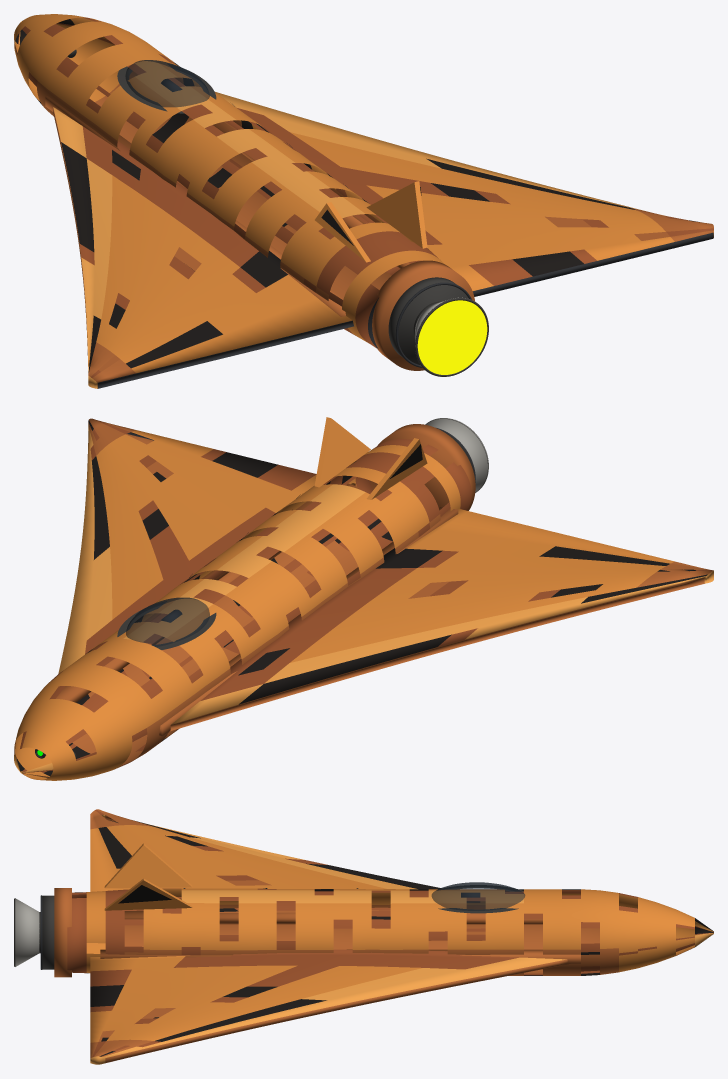
Rendered from Ship_TigerWing_4.glb.
3 renders of one model, top to bottom at view 1: azimuth 30°, elevation 25°; view 2: azimuth 150°, elevation 25°; view 3: azimuth 270°, elevation 25°, orthographic. The views are drawn at different scales.
Parts seen in each view (by area): view 1: Fuselage_OrganicEllipsoidTaperedBody_BakedPaint, Wing_Left_LongDeltaAerofoil_BakedPaint, Wing_Right_LongDeltaAerofoil_BakedPaint, EngineEmitter, AftCollar_IntegratedSingleEngineBand, CanopyGlass_LowInsetDome, EngineBlock_AftDarkSingleEngineHousing, TailFin_Right_CantedStabilizer, WingRoot_Left_EmbeddedShoulder, CanopyFrame_DorsalOvalRim, TailFin_Left_CantedStabilizer, EngineLip_Center_DarkWideRim; view 2: Fuselage_OrganicEllipsoidTaperedBody_BakedPaint, Wing_Left_LongDeltaAerofoil_BakedPaint, Wing_Right_LongDeltaAerofoil_BakedPaint, CanopyGlass_LowInsetDome, AftCollar_IntegratedSingleEngineBand, TailFin_Right_CantedStabilizer, EngineBell_Center_BroadBurnishedNozzle, WingRoot_Left_EmbeddedShoulder, TailFin_Left_CantedStabilizer, CanopyFrame_DorsalOvalRim, WingRoot_Right_EmbeddedShoulder; view 3: Fuselage_OrganicEllipsoidTaperedBody_BakedPaint, Wing_Right_LongDeltaAerofoil_BakedPaint, Wing_Left_LongDeltaAerofoil_BakedPaint, CanopyGlass_LowInsetDome, TailFin_Left_CantedStabilizer, AftCollar_IntegratedSingleEngineBand, EngineBell_Center_BroadBurnishedNozzle, TailFin_Right_CantedStabilizer, WingRoot_Right_EmbeddedShoulder, WingRoot_Left_EmbeddedShoulder, EngineBlock_AftDarkSingleEngineHousing, CanopyFrame_DorsalOvalRim (+1 smaller).
Boxes of the visible parts, x1,y1,x2,y2 form: Fuselage_OrganicEllipsoidTaperedBody_BakedPaint: [14, 14, 443, 349]; Wing_Left_LongDeltaAerofoil_BakedPaint: [53, 107, 353, 388]; Wing_Right_LongDeltaAerofoil_BakedPaint: [215, 92, 713, 296]; EngineEmitter: [417, 300, 487, 374]; AftCollar_IntegratedSingleEngineBand: [372, 260, 474, 370]; CanopyGlass_LowInsetDome: [125, 60, 209, 107]; EngineBlock_AftDarkSingleEngineHousing: [388, 277, 468, 364]; TailFin_Right_CantedStabilizer: [366, 181, 427, 248]; WingRoot_Left_EmbeddedShoulder: [45, 96, 345, 316]; CanopyFrame_DorsalOvalRim: [117, 64, 216, 113]; TailFin_Left_CantedStabilizer: [315, 202, 370, 262]; EngineLip_Center_DarkWideRim: [415, 297, 488, 376]; Fuselage_OrganicEllipsoidTaperedBody_BakedPaint: [14, 439, 471, 780]; Wing_Left_LongDeltaAerofoil_BakedPaint: [169, 508, 713, 731]; Wing_Right_LongDeltaAerofoil_BakedPaint: [58, 418, 355, 673]; CanopyGlass_LowInsetDome: [126, 597, 209, 646]; AftCollar_IntegratedSingleEngineBand: [370, 424, 475, 510]; TailFin_Right_CantedStabilizer: [314, 417, 370, 487]; EngineBell_Center_BroadBurnishedNozzle: [425, 418, 488, 492]; WingRoot_Left_EmbeddedShoulder: [159, 507, 458, 736]; TailFin_Left_CantedStabilizer: [366, 438, 427, 499]; CanopyFrame_DorsalOvalRim: [117, 601, 216, 649]; WingRoot_Right_EmbeddedShoulder: [56, 483, 358, 702]; Fuselage_OrganicEllipsoidTaperedBody_BakedPaint: [67, 888, 713, 975]; Wing_Right_LongDeltaAerofoil_BakedPaint: [90, 949, 570, 1064]; Wing_Left_LongDeltaAerofoil_BakedPaint: [90, 809, 440, 912]; CanopyGlass_LowInsetDome: [431, 882, 525, 910]; TailFin_Left_CantedStabilizer: [104, 843, 192, 888]; AftCollar_IntegratedSingleEngineBand: [54, 888, 71, 977]; EngineBell_Center_BroadBurnishedNozzle: [15, 898, 39, 966]; TailFin_Right_CantedStabilizer: [104, 878, 192, 910]; WingRoot_Right_EmbeddedShoulder: [100, 949, 580, 963]; WingRoot_Left_EmbeddedShoulder: [124, 910, 542, 924]; EngineBlock_AftDarkSingleEngineHousing: [42, 895, 54, 969]; CanopyFrame_DorsalOvalRim: [438, 885, 523, 913].
Size of the model in its own units: 6.24 by 1.32 by 7.47.
